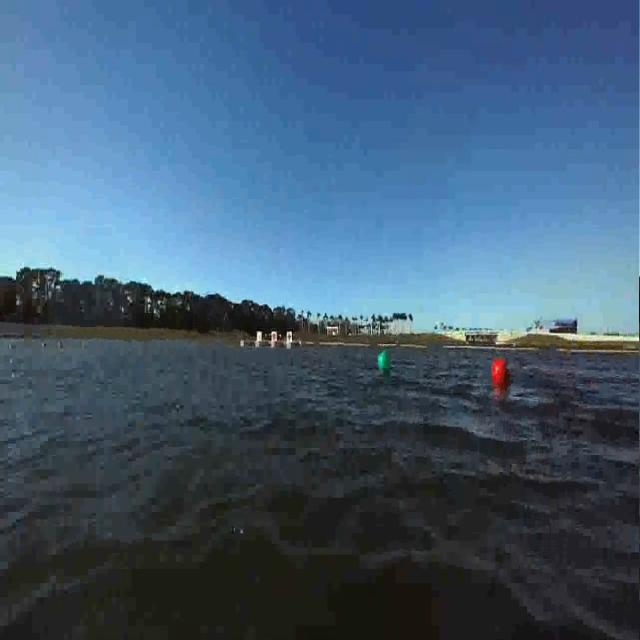green-buoy: (378, 351, 390, 370)
red-buoy: (492, 358, 511, 386)
